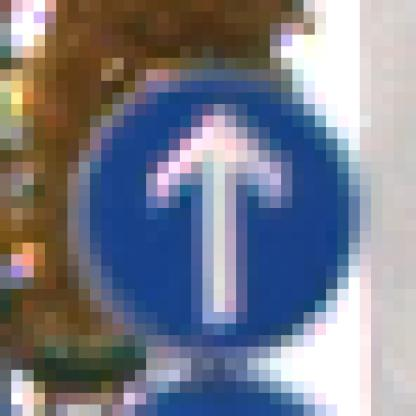AheadOnly: (69, 59, 350, 359)
